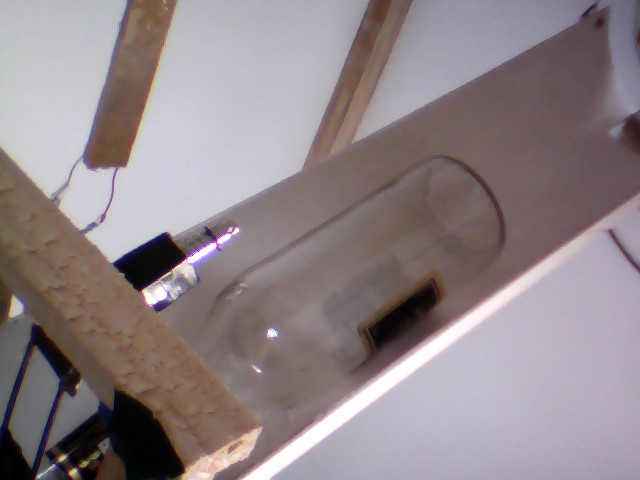vidrio: (197, 151, 513, 418)
